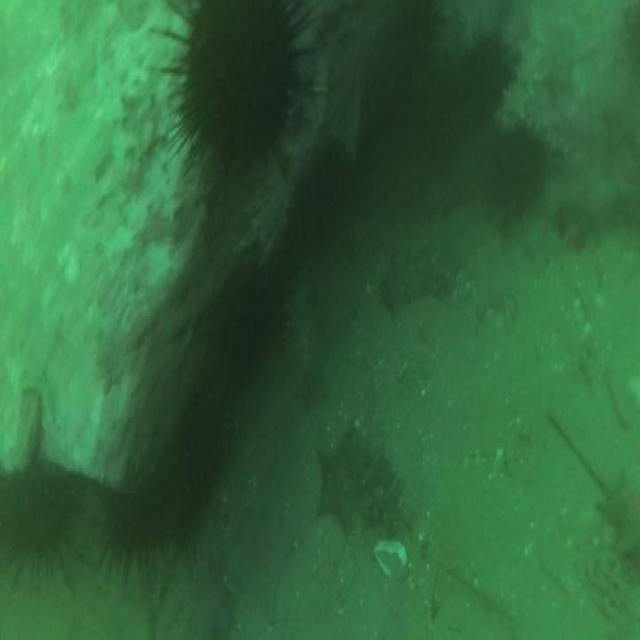echinus: (180, 5, 294, 158), (215, 276, 274, 382), (4, 480, 74, 569), (490, 133, 548, 240), (451, 32, 513, 126), (102, 492, 166, 560), (179, 400, 225, 488)
holothurian: (278, 270, 324, 392), (499, 24, 551, 128)
starfish: (319, 439, 367, 531)
